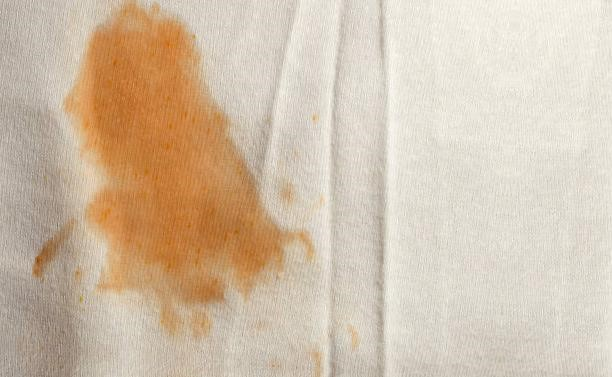stain: (60, 1, 319, 340), (29, 215, 75, 282), (342, 320, 361, 355), (307, 347, 329, 375)
